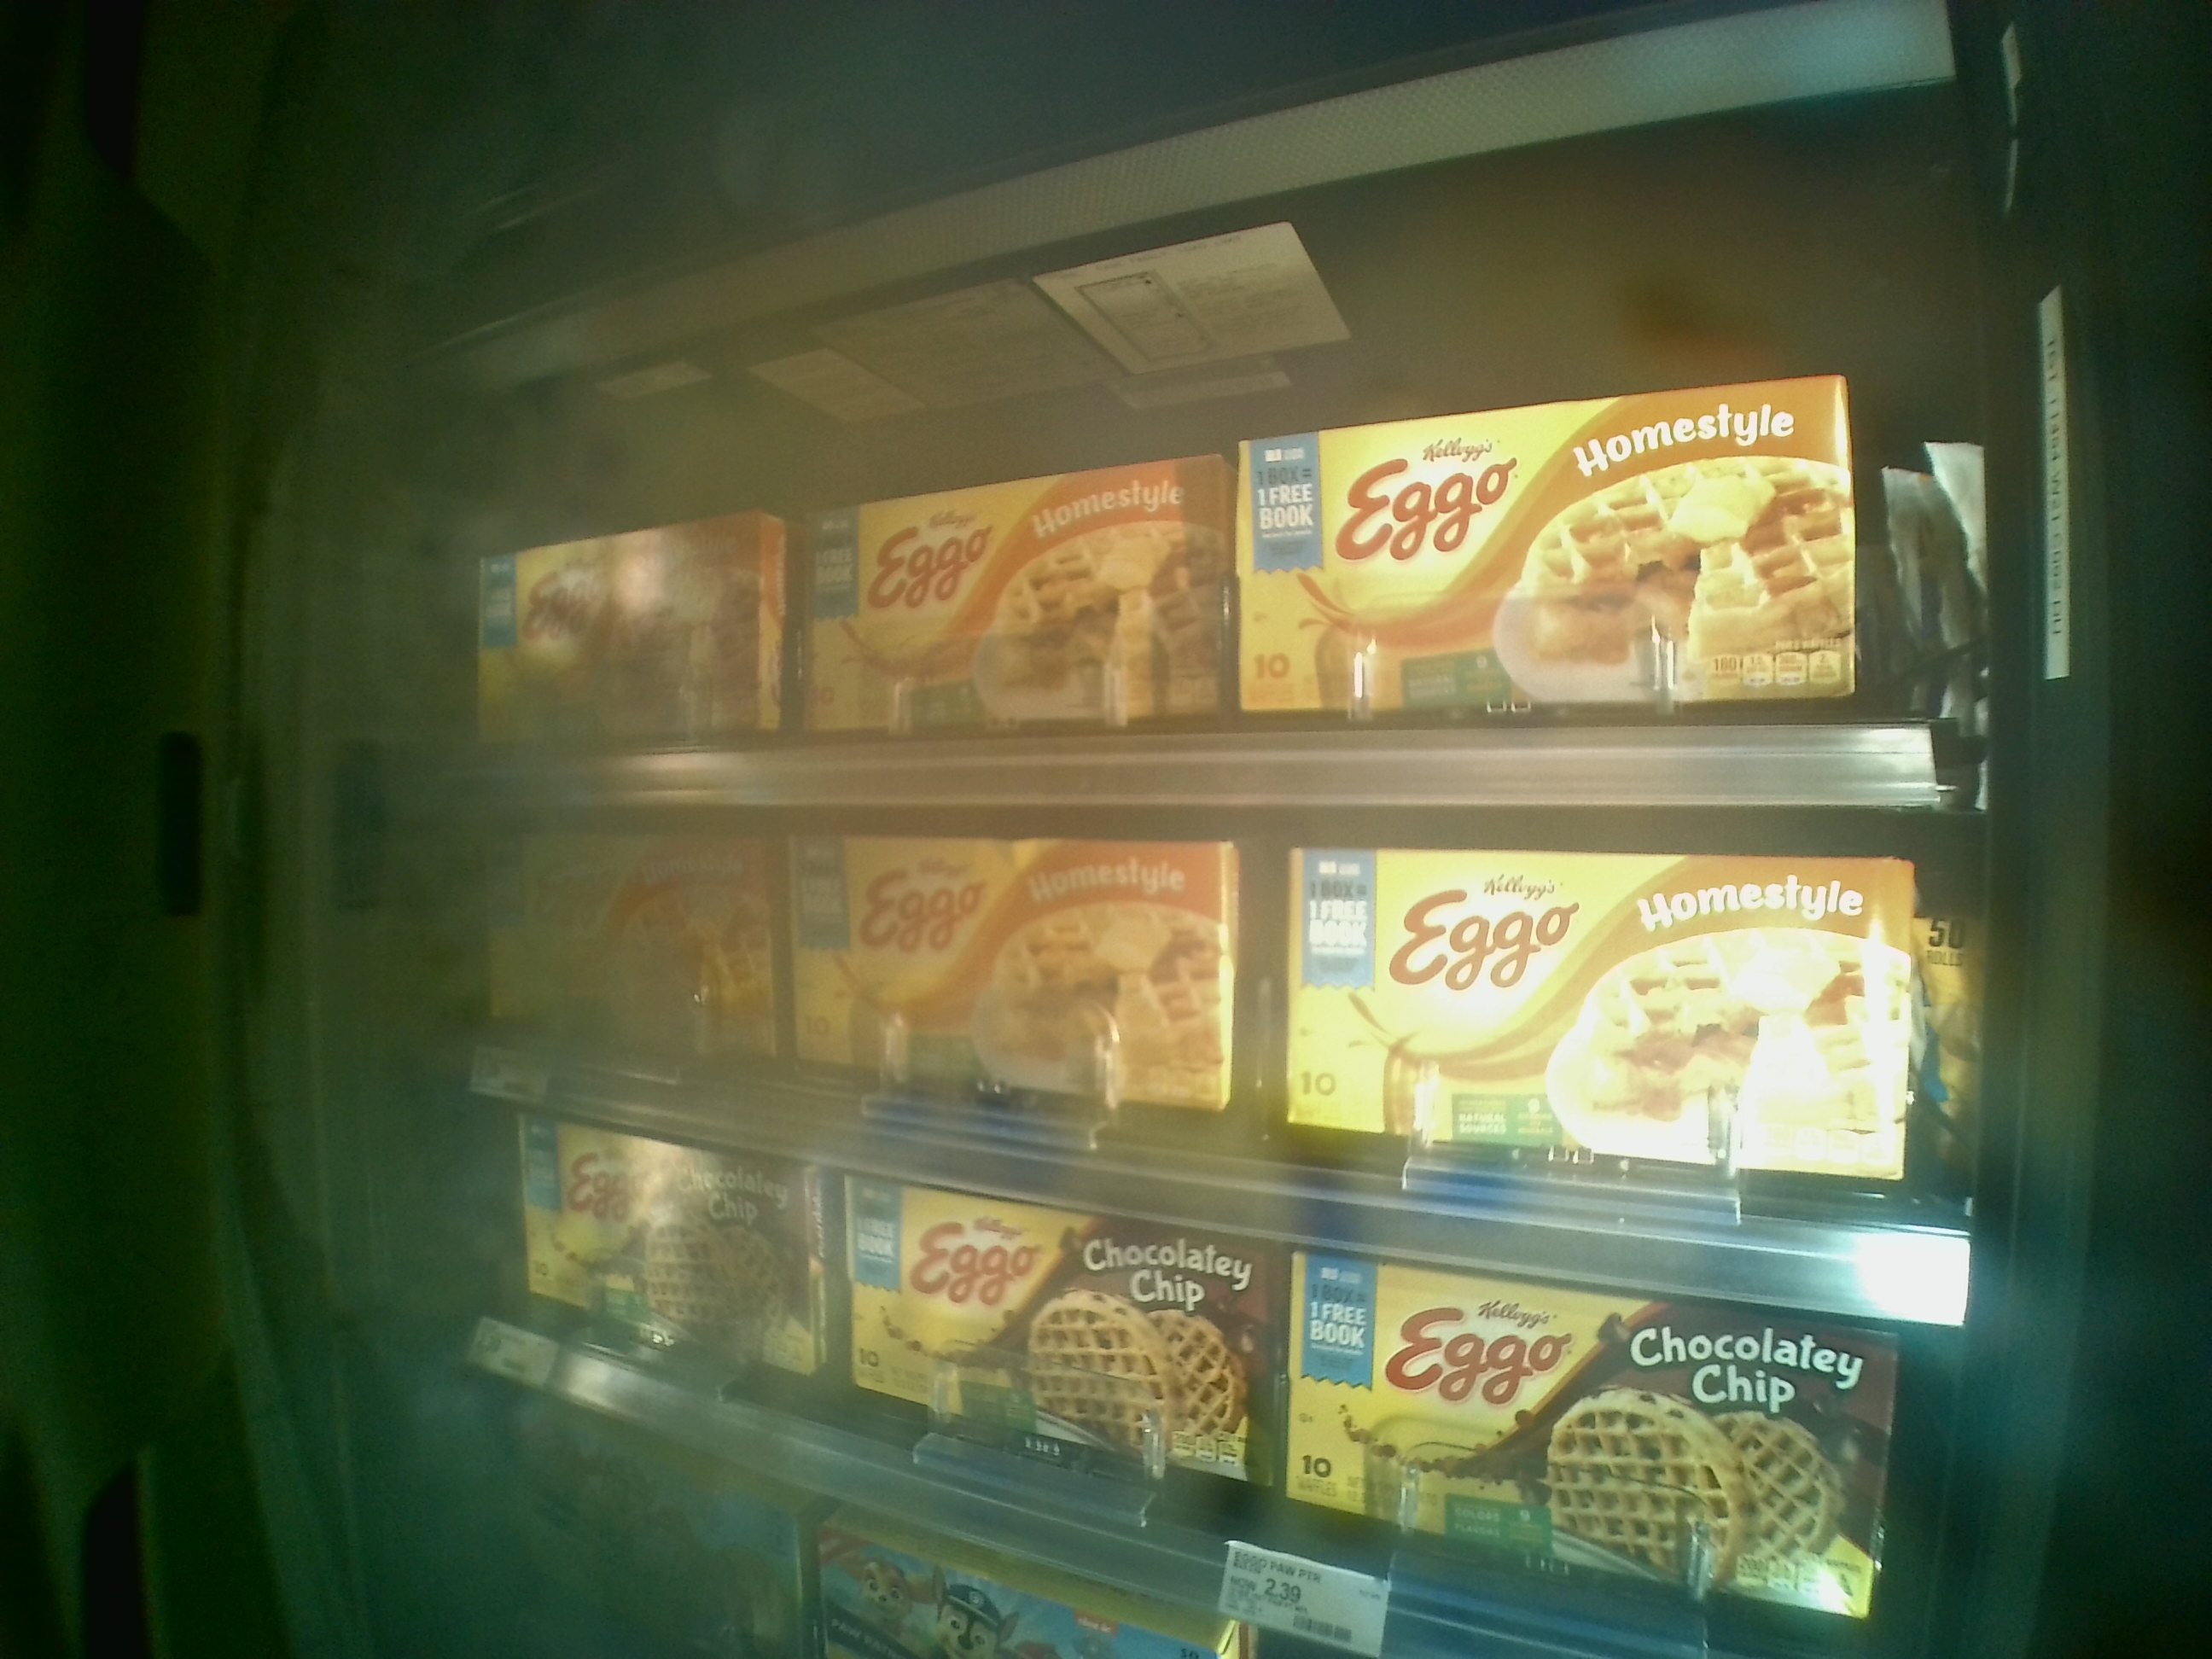shelf: (446, 453, 2013, 812)
